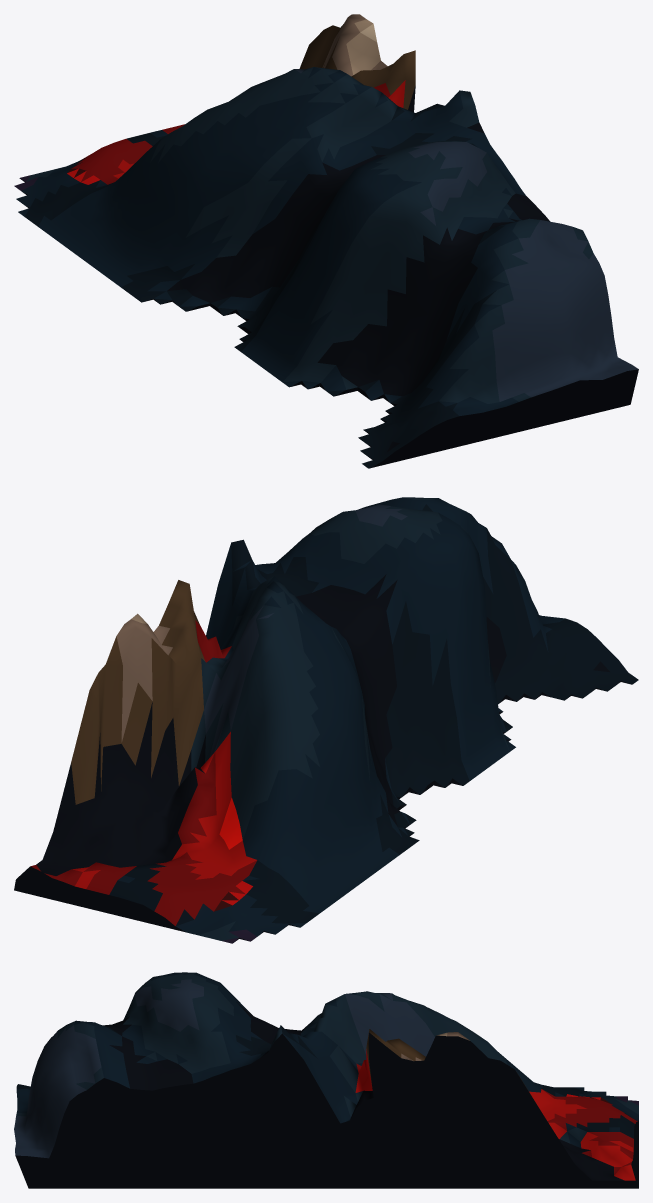
Rendered from gyges_maw_87.glb.
3 renders of one model, top to bottom at view 1: azimuth 30°, elevation 25°; view 2: azimuth 150°, elevation 25°; view 3: azimuth 270°, elevation 25°, orthographic. The views are drawn at different scales.
Parts seen in each view (by area): view 1: gyges_maw_87; view 2: gyges_maw_87; view 3: gyges_maw_87.
Boxes of the visible parts, left/top/right/bottom form: gyges_maw_87: left=14, top=14, right=638, bottom=468; gyges_maw_87: left=14, top=497, right=638, bottom=943; gyges_maw_87: left=14, top=972, right=638, bottom=1188.
Bounding box in the file's own units: 11 × 8.35 × 28.67.
